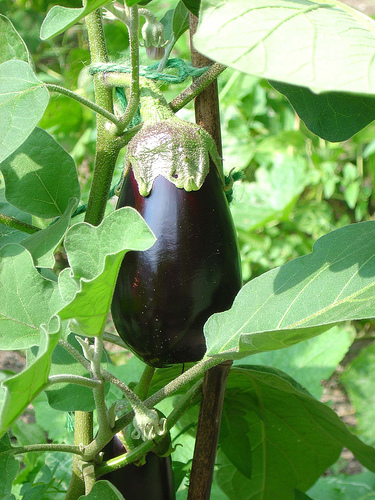eggplant: (101, 78, 252, 376)
